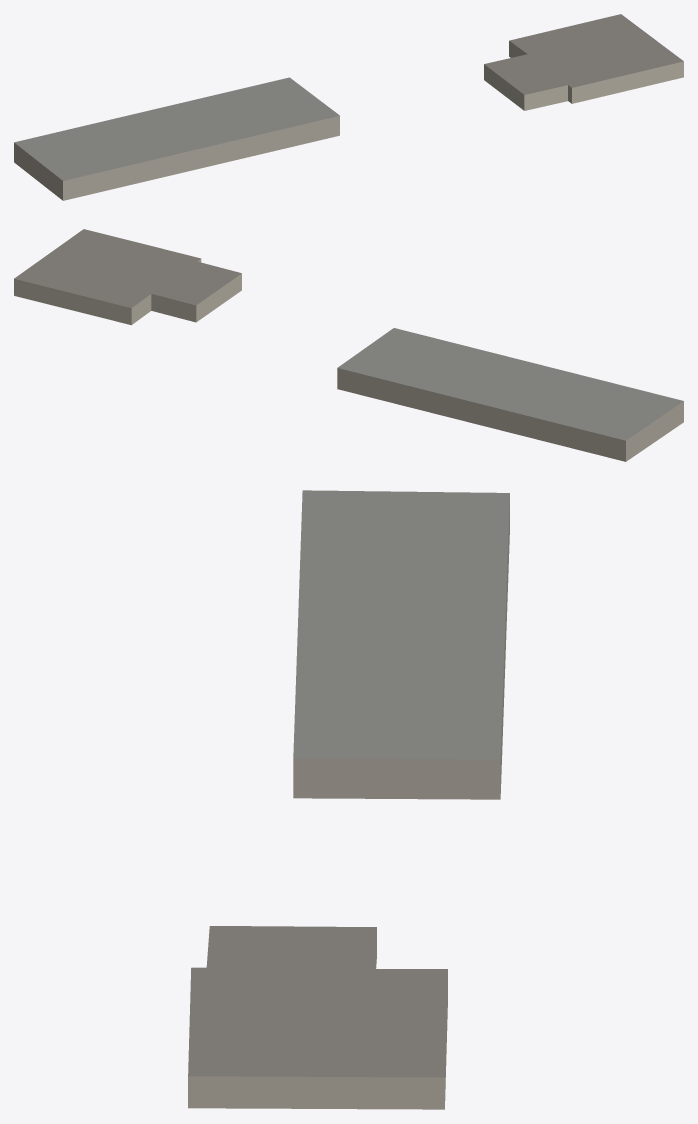
Rendered from 1ec4bd490c39-chunk-1209_11839.glb.
3 views of the same model, one above another, from view 1: azimuth 30°, elevation 25°; view 2: azimuth 150°, elevation 25°; view 3: azimuth 270°, elevation 25° (orthographic). The views are drawn at different scales.
Parts seen in each view (by area): view 1: building_162043, building_68441; view 2: building_162043, building_68441; view 3: building_162043, building_68441.
Part boxes in pixels (box(x1,y1,x2,y2)): building_162043: box(14, 77, 339, 200); building_68441: box(484, 14, 683, 110); building_162043: box(337, 328, 683, 461); building_68441: box(14, 229, 241, 325); building_162043: box(293, 490, 509, 799); building_68441: box(188, 926, 447, 1109).
Size of the model in its own units: 199 by 6.41 by 46.82.
